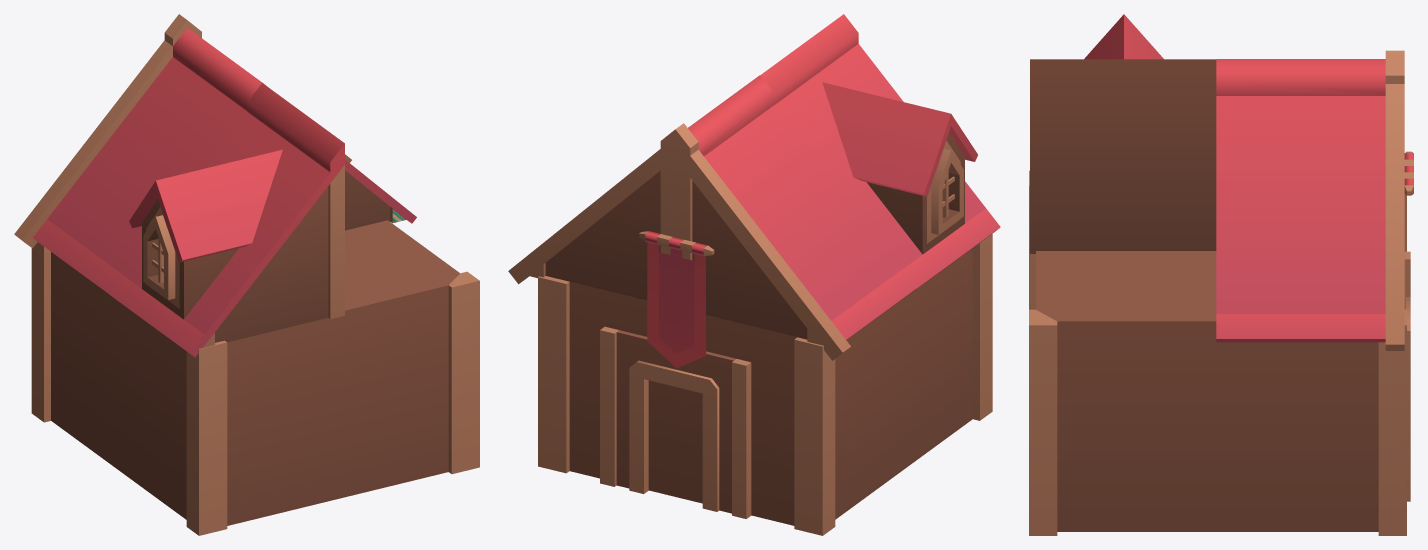
Rendered from woodhouse.glb.
3 renders of one model, left to right at view 1: azimuth 30°, elevation 25°; view 2: azimuth 150°, elevation 25°; view 3: azimuth 270°, elevation 25°, orthographic. The views are drawn at different scales.
Visible parts, largest first — view 1: roof-high-window; view 2: roof-high-window; view 3: roof-high-window.
Part boxes in pixels (x1,y1,x2,y2): roof-high-window: [14, 14, 479, 535]; roof-high-window: [508, 14, 1000, 535]; roof-high-window: [1029, 14, 1413, 535].
Bounding box in the file's own units: 2.28 × 2.41 × 2.04.
5 materials, 5 textured.
